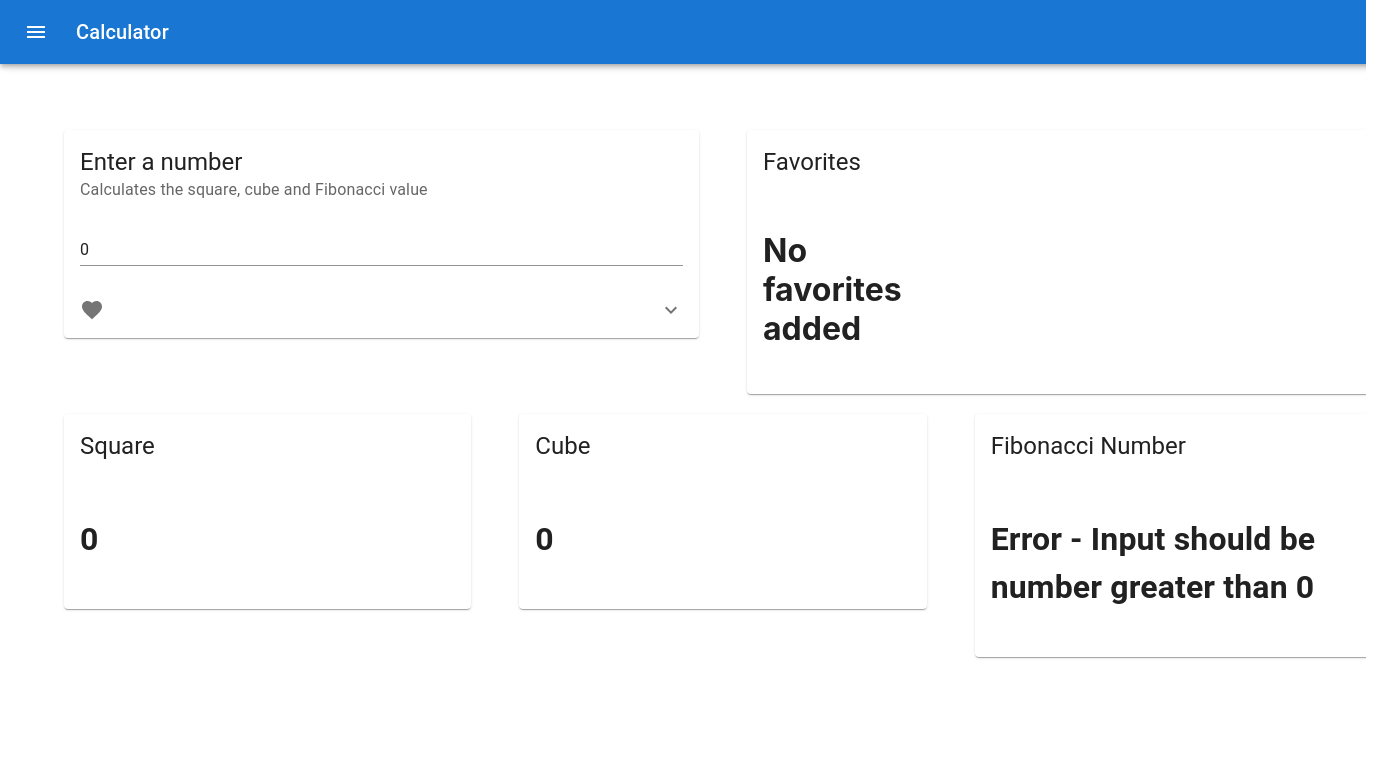
basic page check › input 5
Type "5" into the number field with id "input-value" at (382, 250), box left=80, top=234, right=683, bottom=266
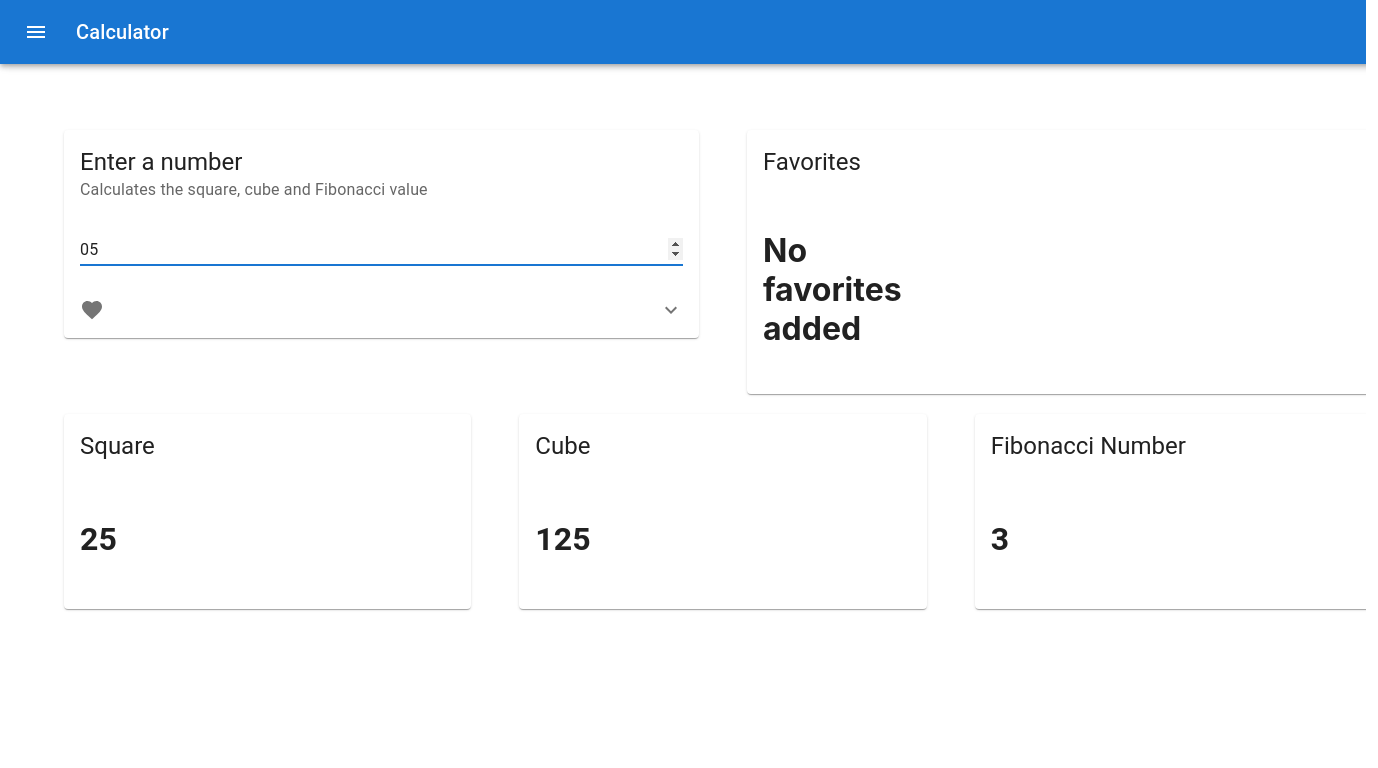
Now the heading with id "square-result-value" reads "25", box left=80, top=520, right=117, bottom=558
Now the heading with id "cube-result-value" reads "125", box left=535, top=520, right=591, bottom=558
Now the heading with id "fibonacci-result-value" reads "3", box left=991, top=520, right=1010, bottom=558
